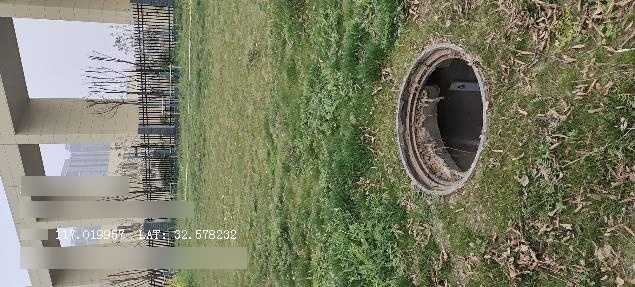lose: (395, 44, 487, 197)
